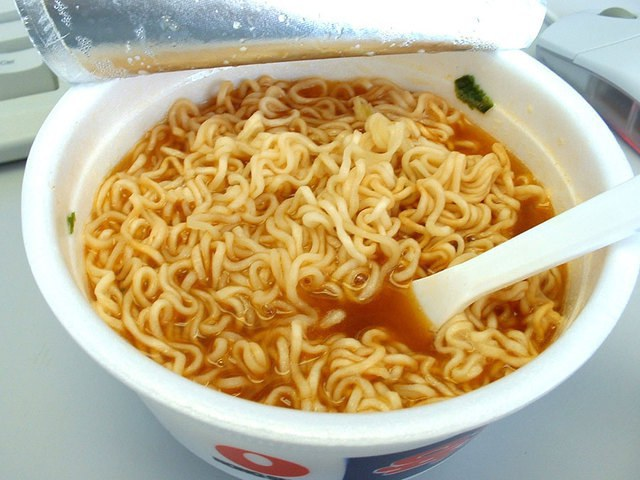plain spaghetti: (107, 90, 561, 386)
